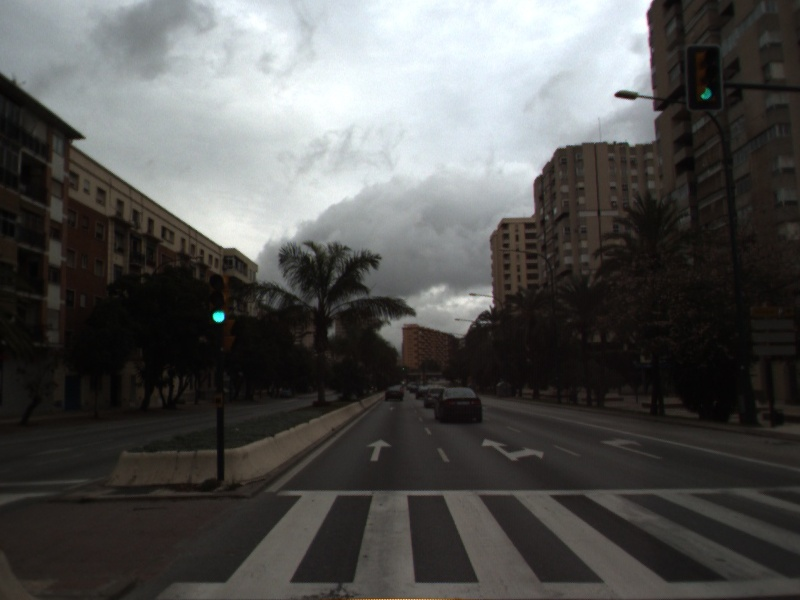RIGHT: (598, 435, 664, 461)
STRAIGHT: (364, 437, 394, 463)
STRAIGHT_RIGHT: (479, 436, 546, 463)
